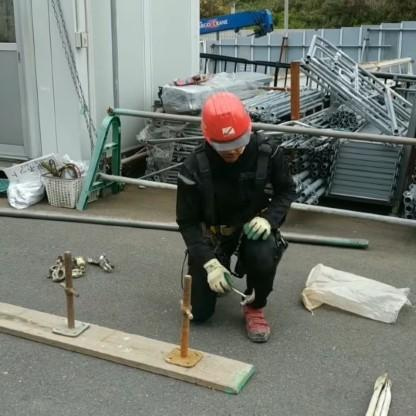helmet: (195, 85, 268, 178)
